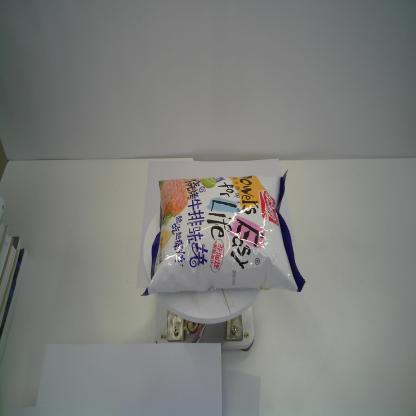Puffed Food: (139, 169, 306, 298)
